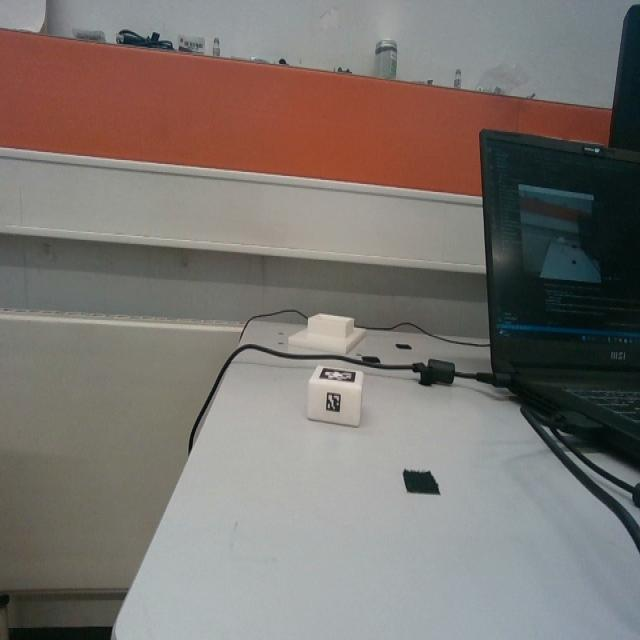Cube: (310, 364, 367, 425)
